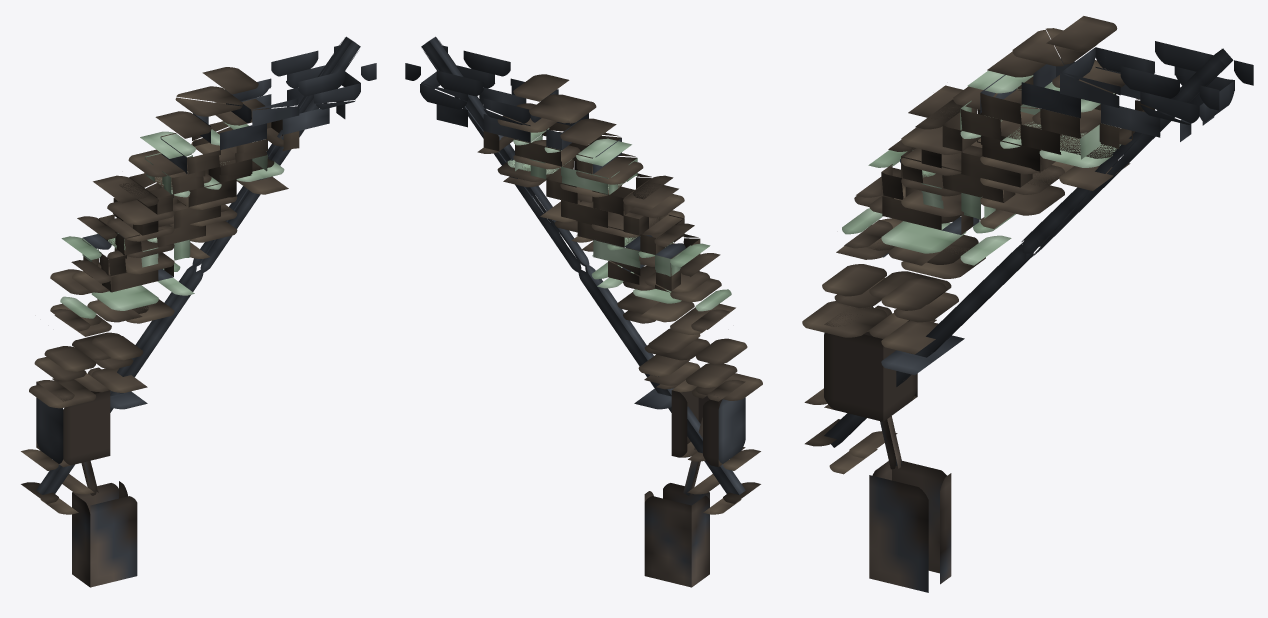
The model's file is poachers_bow.obj.
3 views of the same model, side by side, from view 1: azimuth 30°, elevation 25°; view 2: azimuth 150°, elevation 25°; view 3: azimuth 330°, elevation 25° (orthographic). The views are drawn at different scales.
Visible parts, largest first — view 1: lit; view 2: lit; view 3: lit.
Part boxes in pixels (x1,y1,x2,y2): lit: (21,36,376,587); lit: (405,36,762,587); lit: (802,16,1253,592).
Bounding box in the file's own units: 0.6562 × 0.9688 × 0.1375.
